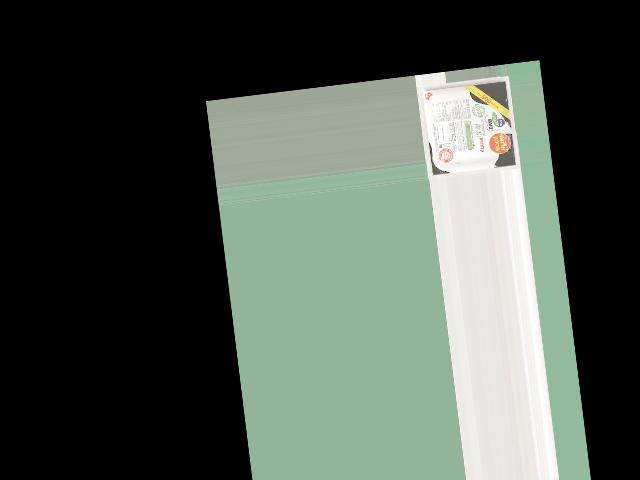cheese: (424, 76, 513, 176)
